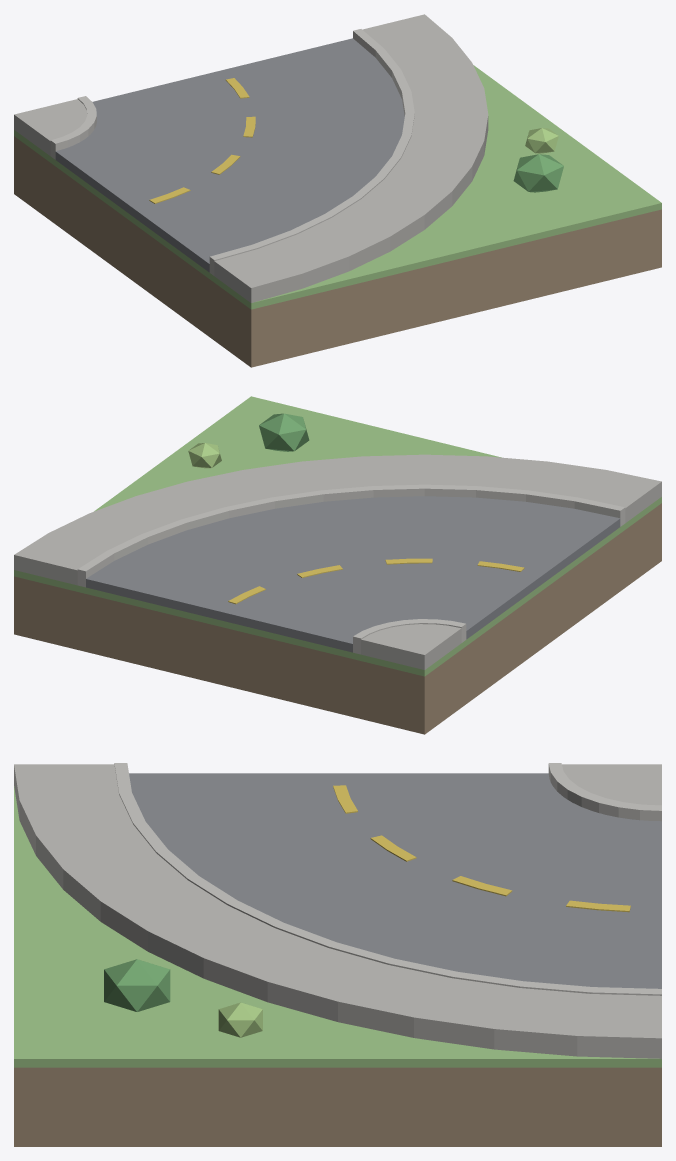
Rendered from ruas__asfalto_curva.glb.
3 renders of one model, top to bottom at view 1: azimuth 30°, elevation 25°; view 2: azimuth 150°, elevation 25°; view 3: azimuth 270°, elevation 25°, orthographic. The views are drawn at different scales.
Parts seen in each view (by area): view 1: ruas__asfalto_curva; view 2: ruas__asfalto_curva; view 3: ruas__asfalto_curva.
Boxes of the visible parts, box(x1,y1,x2,y2) form: ruas__asfalto_curva: box(14, 14, 661, 367); ruas__asfalto_curva: box(14, 396, 661, 734); ruas__asfalto_curva: box(14, 763, 661, 1146).
Bounding box in the file's own units: 2 × 0.462 × 2.
